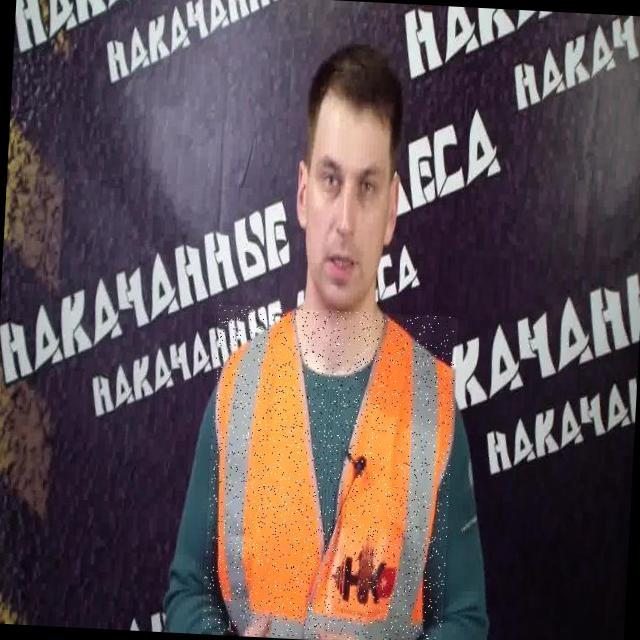Person: (157, 33, 503, 640)
Safety Vest: (201, 304, 458, 640)
no-helmet: (300, 41, 411, 108)
